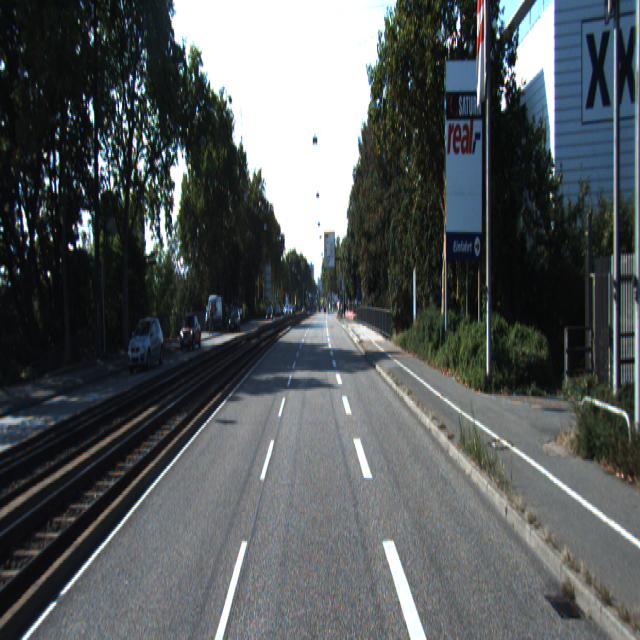Car: (127, 316, 165, 374), (179, 315, 202, 352)
DontCare: (228, 306, 241, 334), (207, 304, 215, 329)
